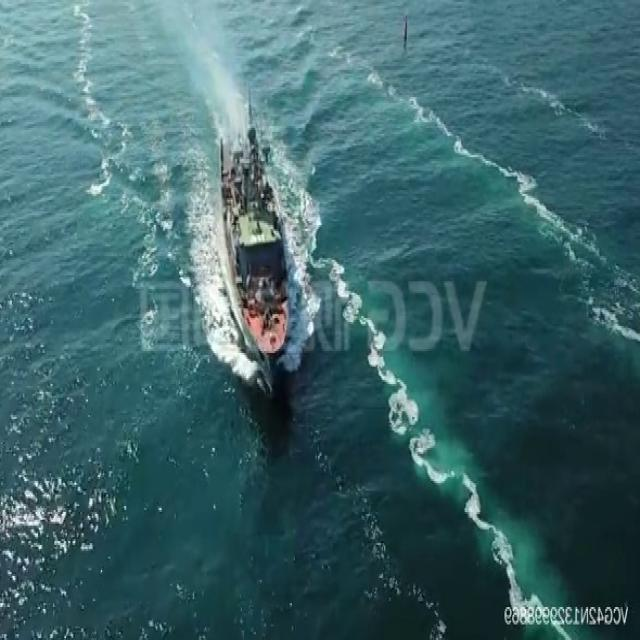navalvessels: (217, 83, 289, 363)
